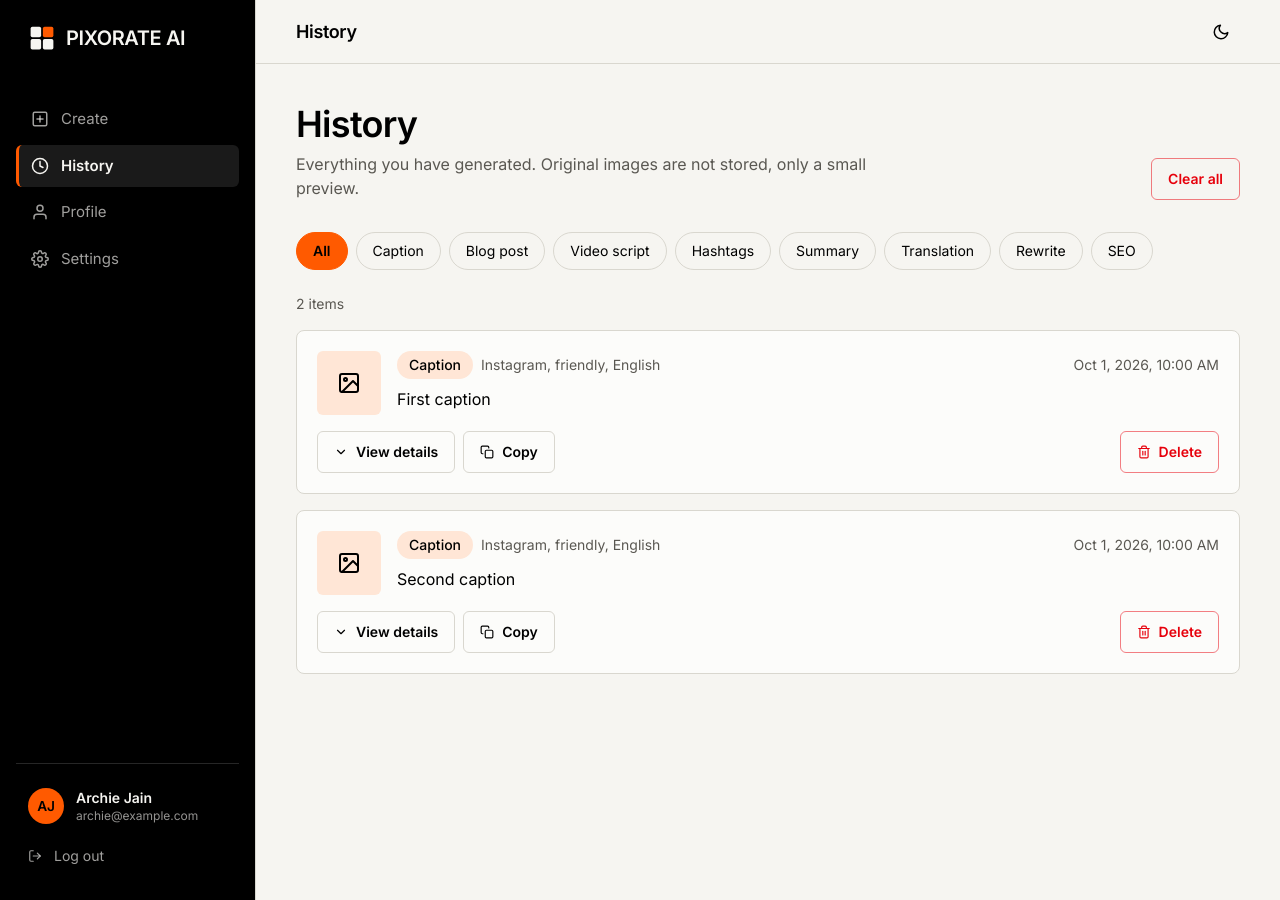
Test case: history › lists items, expands details and deletes after confirmation
Expected: the text "First caption" is shown, x1=397 y1=389 x2=491 y2=409
What coordinates should you click on to do the following:
click the button "View details" below "First caption"
I would click on:
 (386, 452)
Its box is x1=317 y1=431 x2=455 y2=473.
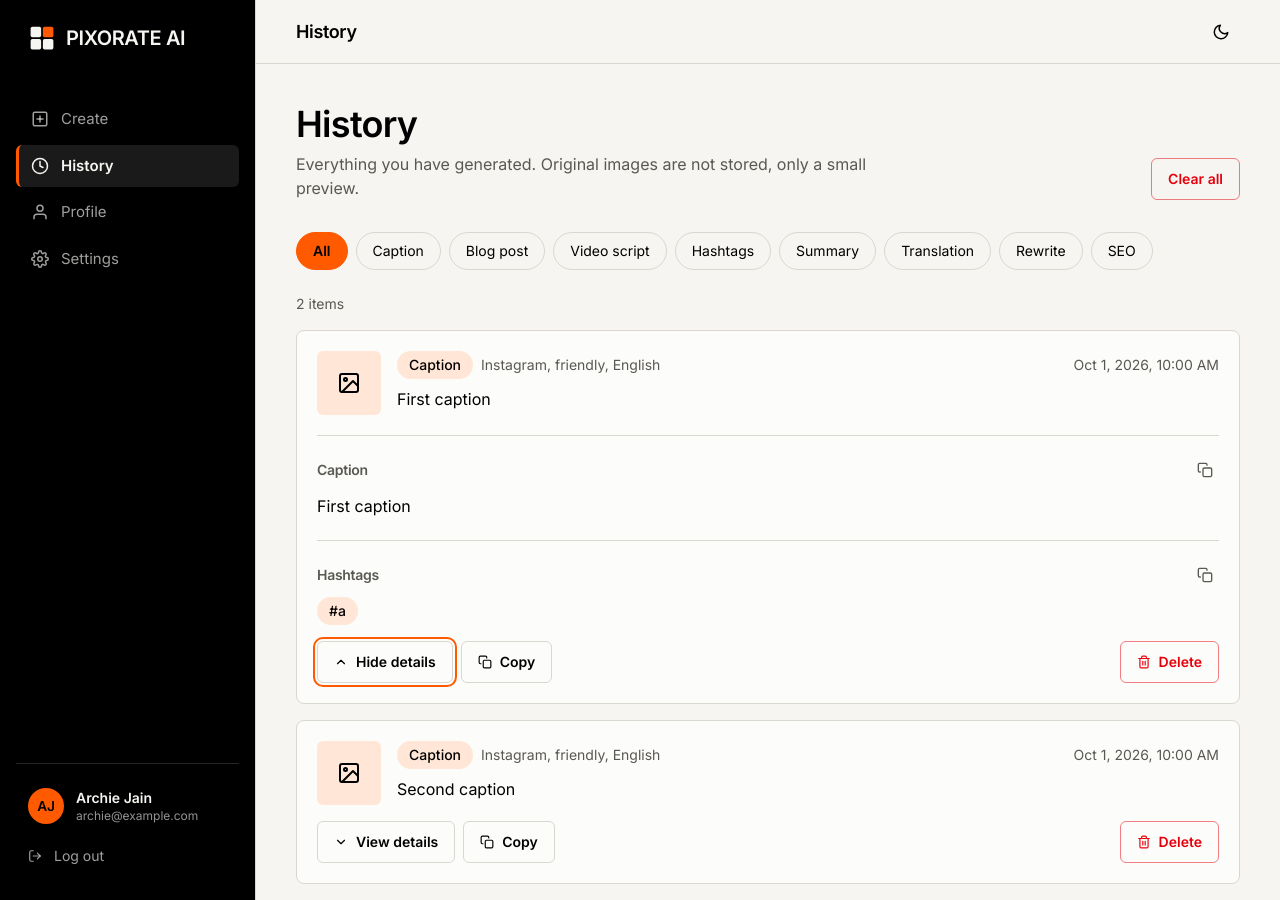
Expected: the text "#a" is shown, x1=317 y1=597 x2=358 y2=625
What coordinates should you click on to do the following:
click the button with aria-label "Delete this item"
I would click on:
 (1169, 662)
Its box is x1=1120 y1=641 x2=1219 y2=683.
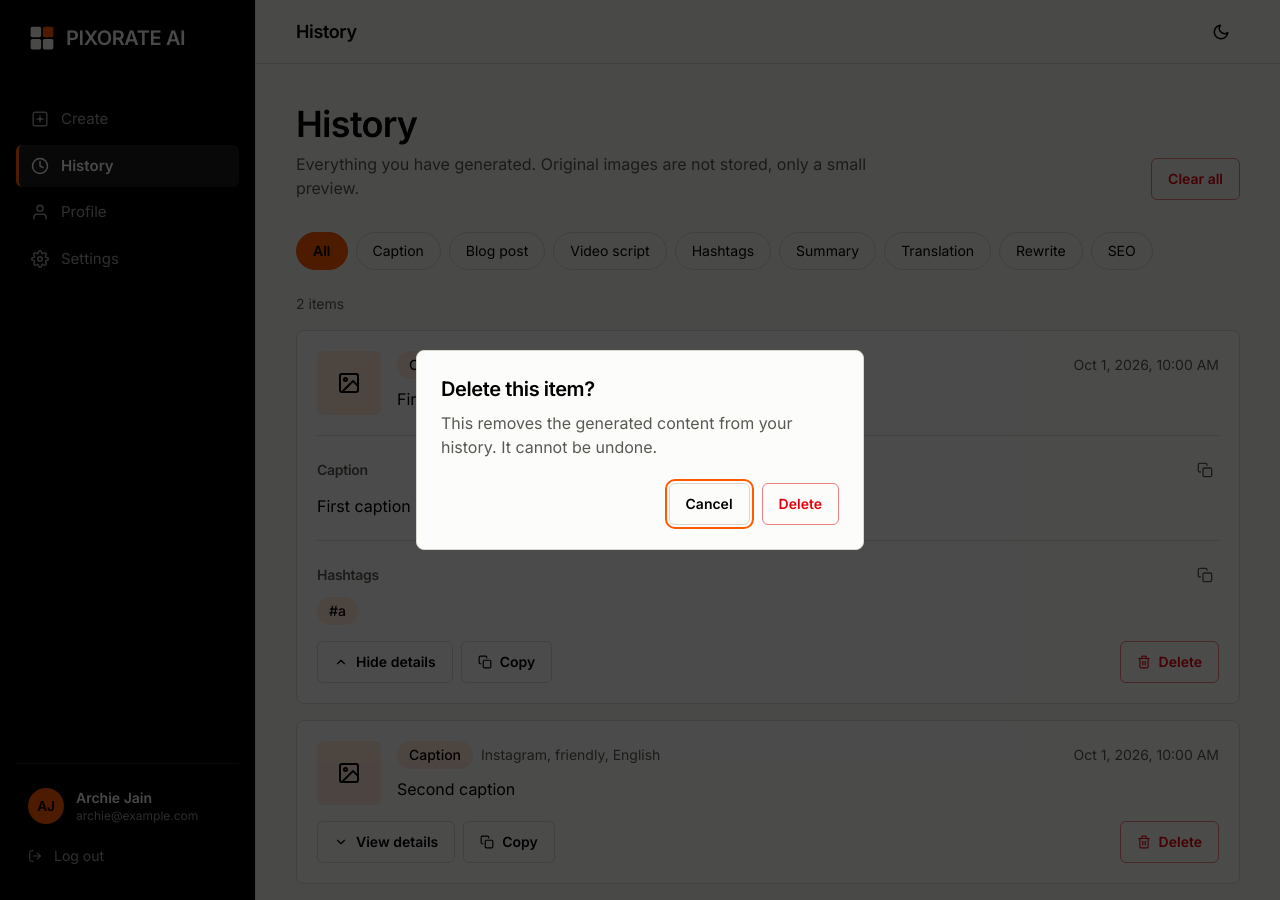
What coordinates should you click on to do the following:
click the button "Delete"
I would click on:
 (800, 504)
Its box is x1=762 y1=483 x2=839 y2=525.
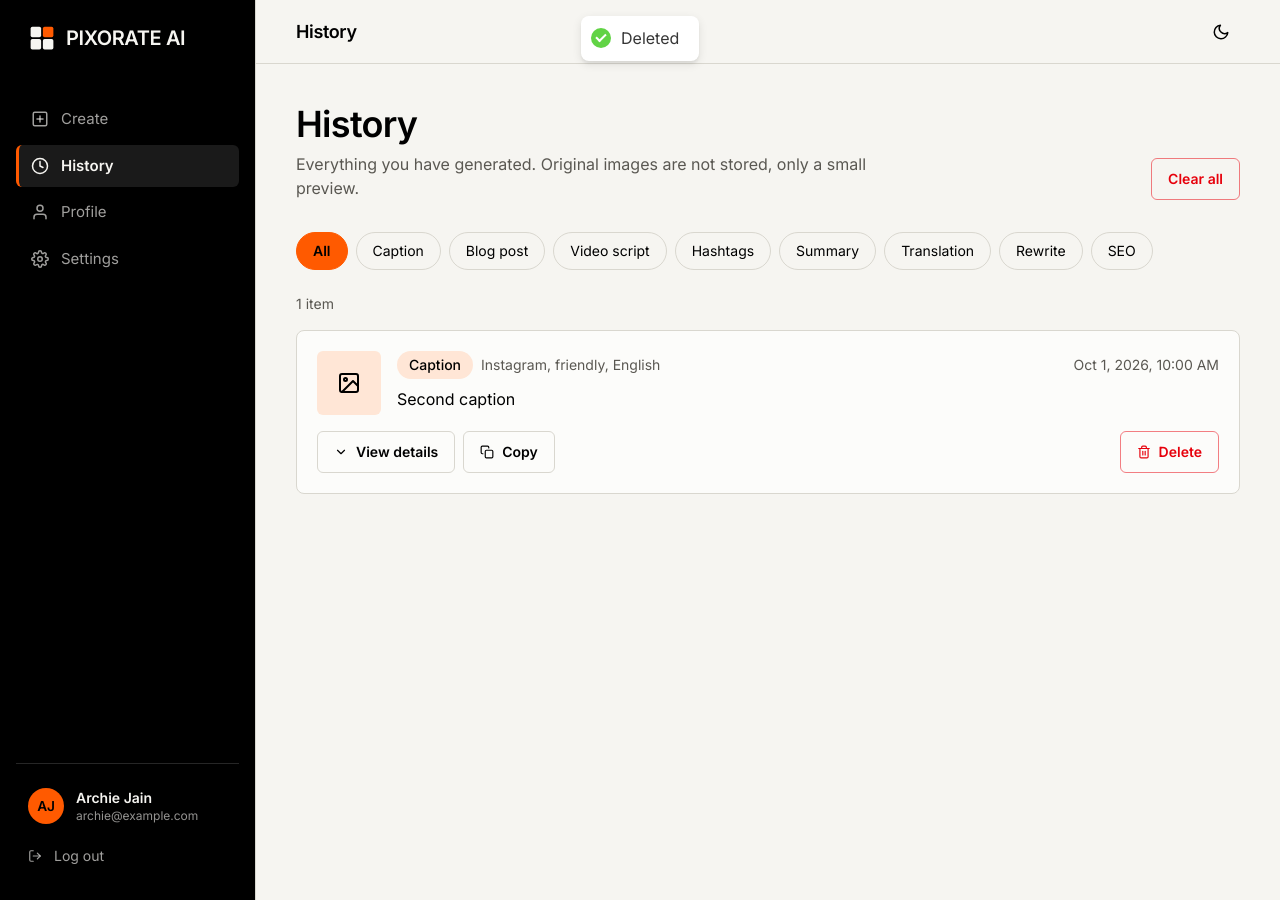
Expected: the text "Second caption" is shown, x1=397 y1=389 x2=515 y2=409
Expected: the text "First caption" is gone
